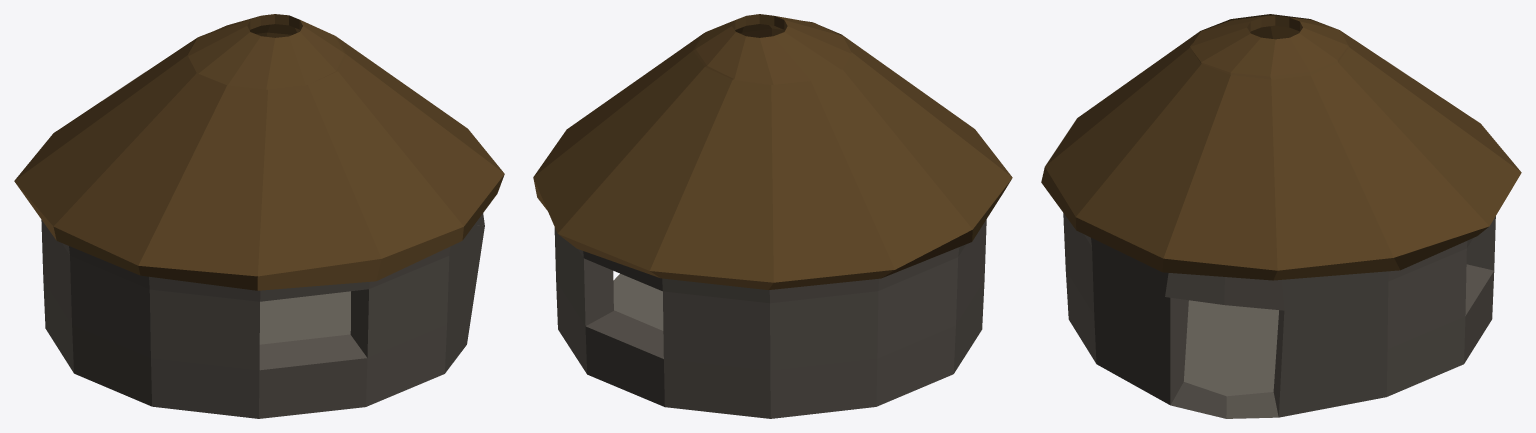
Rendered from forest_people_house_08.fbx.
3 views of the same model, side by side, from view 1: azimuth 30°, elevation 25°; view 2: azimuth 150°, elevation 25°; view 3: azimuth 270°, elevation 25° (orthographic).
Visible parts, largest first — view 1: Cylinder; view 2: Cylinder; view 3: Cylinder.
Part boxes in pixels (x1,y1,x2,y2): Cylinder: (14,14,504,418); Cylinder: (533,14,1012,418); Cylinder: (1041,14,1521,418).
Size of the model in its own units: 410 by 304 by 418.
